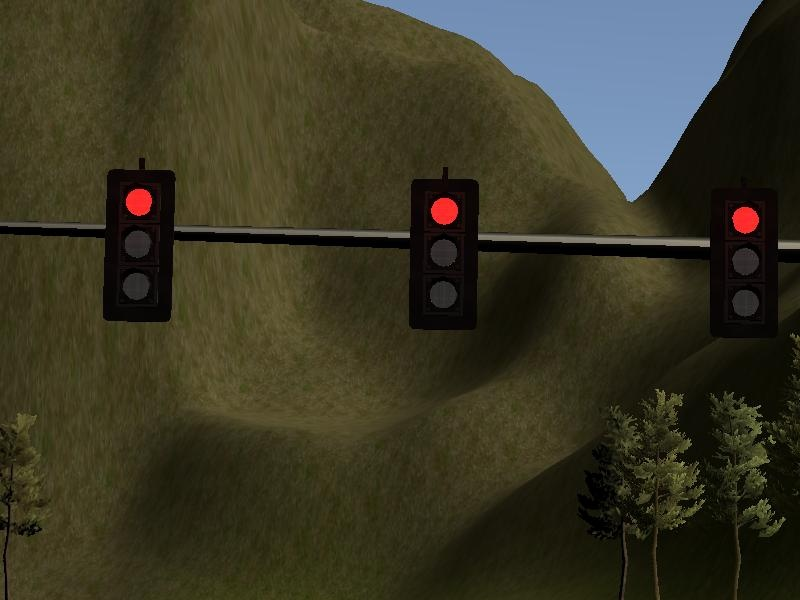RED: (410, 180, 477, 329), (105, 169, 172, 318), (710, 189, 777, 338)
